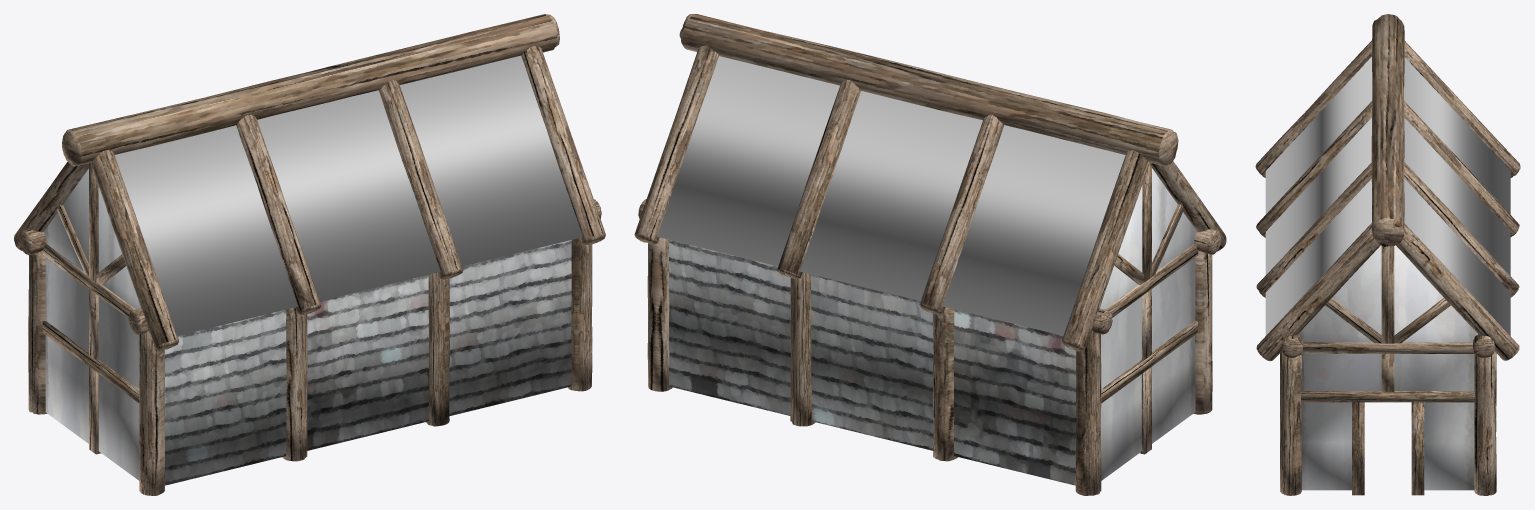
The model's file is longhouse.fbx.
The picture shows the model from 3 angles, left to right: view 1: azimuth 30°, elevation 25°; view 2: azimuth 150°, elevation 25°; view 3: azimuth 270°, elevation 25°; orthographic projection. The views are drawn at different scales.
Parts seen in each view (by area): view 1: Cube_001, Cube, Cube_004, Cube_002, Cube_012, Cube_007, Cube_011; view 2: Cube_001, Cube, Cube_004, Cube_002, Cube_012, Cube_007, Cube_011; view 3: Cube_001, Cube_004, Cube_008, Cube_002, Cube_010, Cube_006.
Part boxes in pixels (x1,y1,x2,y2): Cube_001: (115,55,582,335); Cube: (164,240,571,485); Cube_004: (14,46,605,495); Cube_002: (62,14,559,166); Cube_012: (43,169,140,480); Cube_007: (42,163,135,317); Cube_011: (42,289,139,454); Cube_001: (657,56,1125,335); Cube: (669,240,1076,485); Cube_004: (634,45,1226,495); Cube_002: (679,14,1178,166); Cube_012: (1100,168,1196,480); Cube_007: (1104,163,1198,317); Cube_011: (1101,289,1197,454); Cube_001: (1265,57,1510,335); Cube_004: (1255,40,1520,495); Cube_008: (1298,245,1477,490); Cube_002: (1371,14,1404,246); Cube_010: (1301,354,1474,495); Cube_006: (1301,246,1474,353).
Size of the model in its own units: 6.86 by 4.39 by 3.68.
